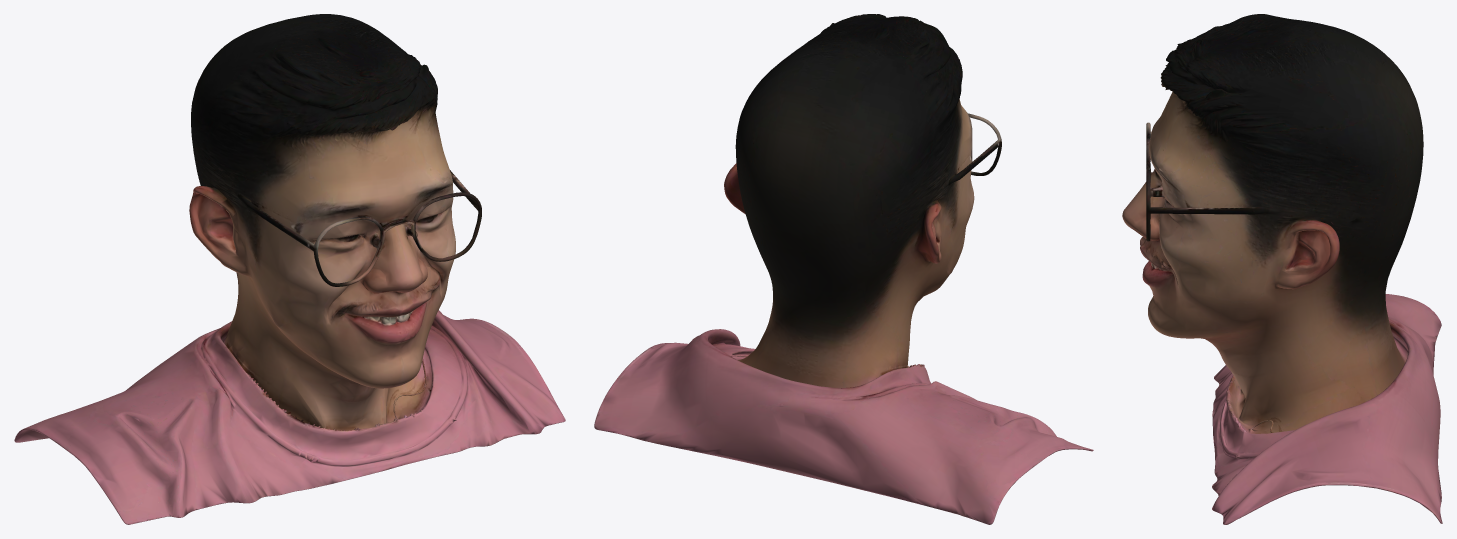
File: head.glb
The picture shows the model from 3 angles, left to right: view 1: azimuth 30°, elevation 25°; view 2: azimuth 150°, elevation 25°; view 3: azimuth 270°, elevation 25°; orthographic projection. The views are drawn at different scales.
Visible parts, largest first — view 1: node_0; view 2: node_0; view 3: node_0.
Part boxes in pixels (x1,y1,x2,y2): node_0: [14, 14, 565, 524]; node_0: [594, 14, 1093, 524]; node_0: [1122, 14, 1442, 524].
Bounding box in the file's own units: 0.8009 × 0.7307 × 0.5371.
1 material, 1 textured.
